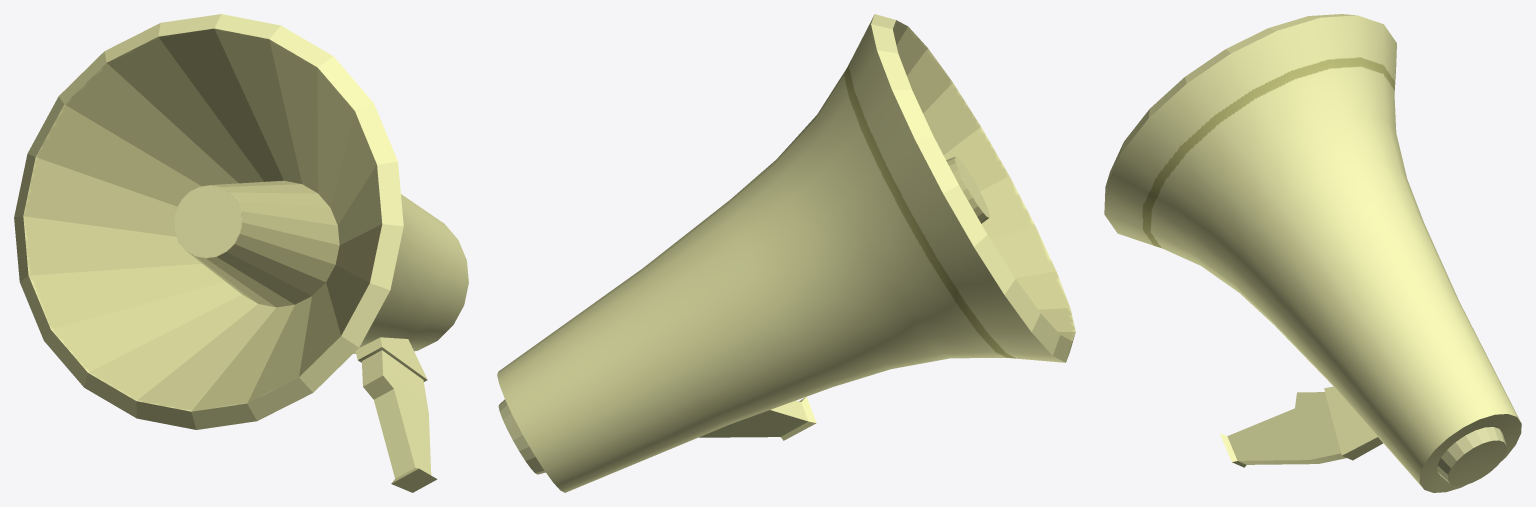
The model's file is Komono_C_Megahon.fbx.
3 views of the same model, side by side, from view 1: azimuth 30°, elevation 25°; view 2: azimuth 150°, elevation 25°; view 3: azimuth 270°, elevation 25° (orthographic). The views are drawn at different scales.
Visible parts, largest first — view 1: megahon_m; view 2: megahon_m; view 3: megahon_m.
Part boxes in pixels (<box>): megahon_m: <box>14,14,468,492</box>; megahon_m: <box>497,14,1075,492</box>; megahon_m: <box>1104,14,1521,492</box>.
Bounding box in the file's own units: 116 × 107 × 103.
